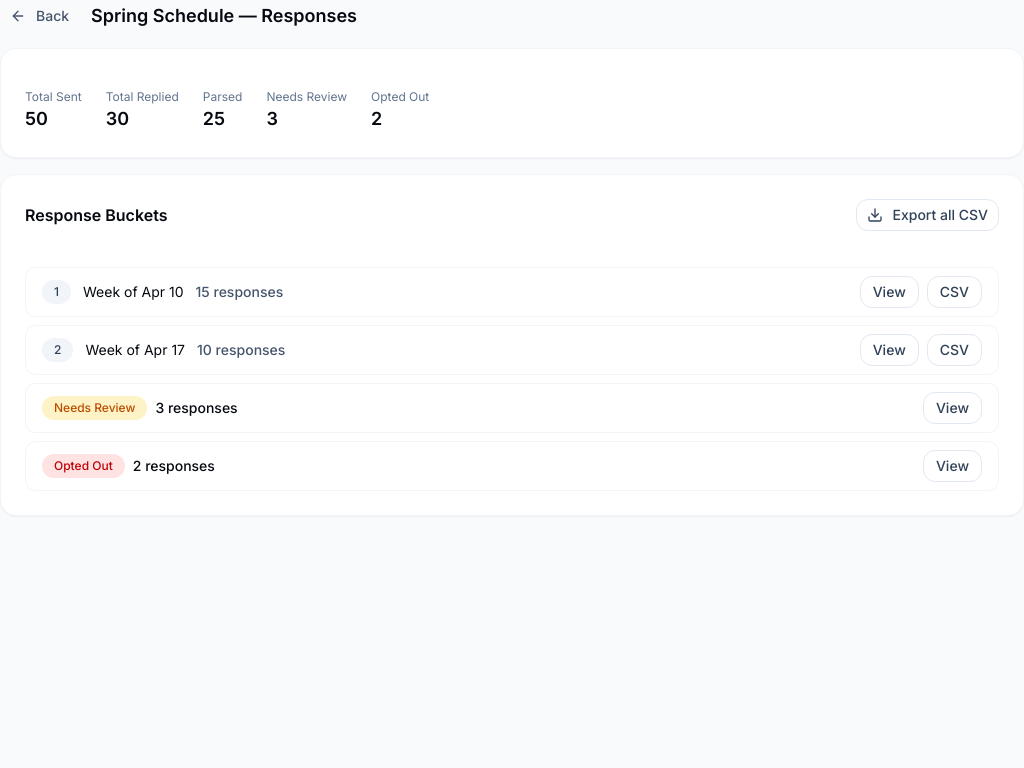
Test: CampaignResponsesView › opens drill-down table on View click for an option bucket
Click the button with test id "view-option-1-btn": (889, 292) [860,276,919,308]
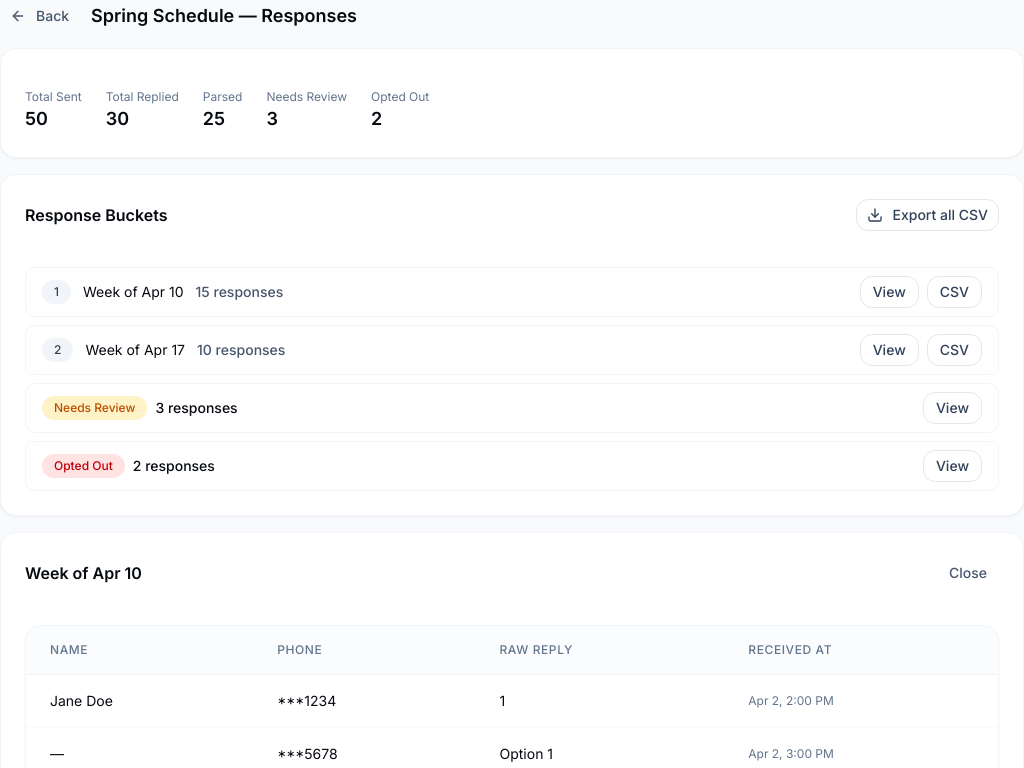
Result: the column heading "Name" is shown at [26,626,253,674]
Result: the column heading "Phone" is shown at [253,626,476,674]
Result: the column heading "Raw Reply" is shown at [476,626,724,674]
